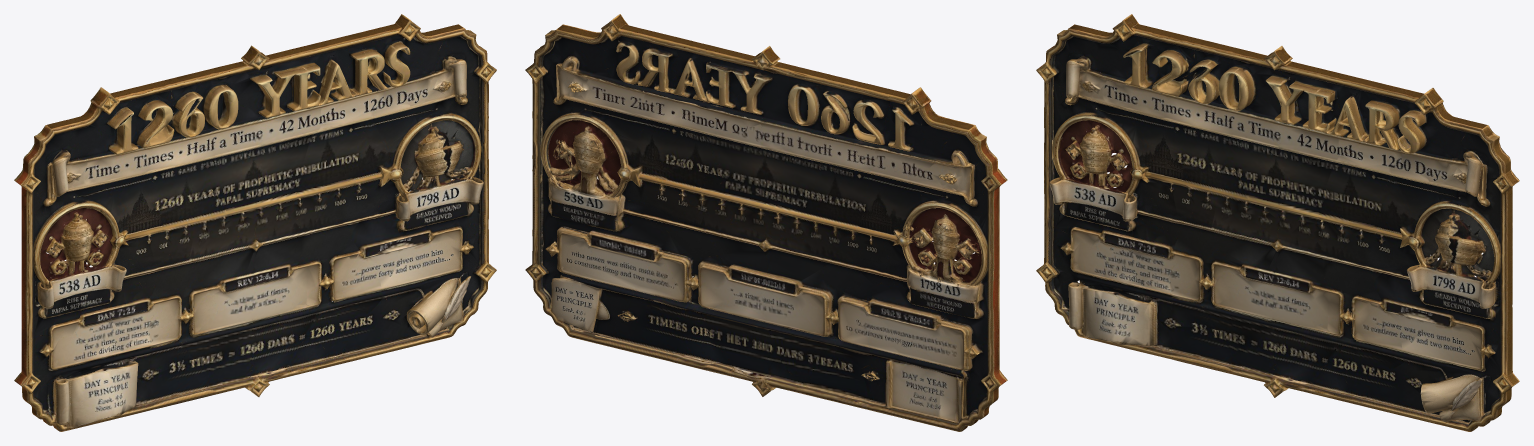
Rendered from years1260.glb.
3 renders of one model, left to right at view 1: azimuth 30°, elevation 25°; view 2: azimuth 150°, elevation 25°; view 3: azimuth 330°, elevation 25°, orthographic.
Bounding box in the file's own units: 1.9 × 1.32 × 0.1366.
1 material, 1 textured.
